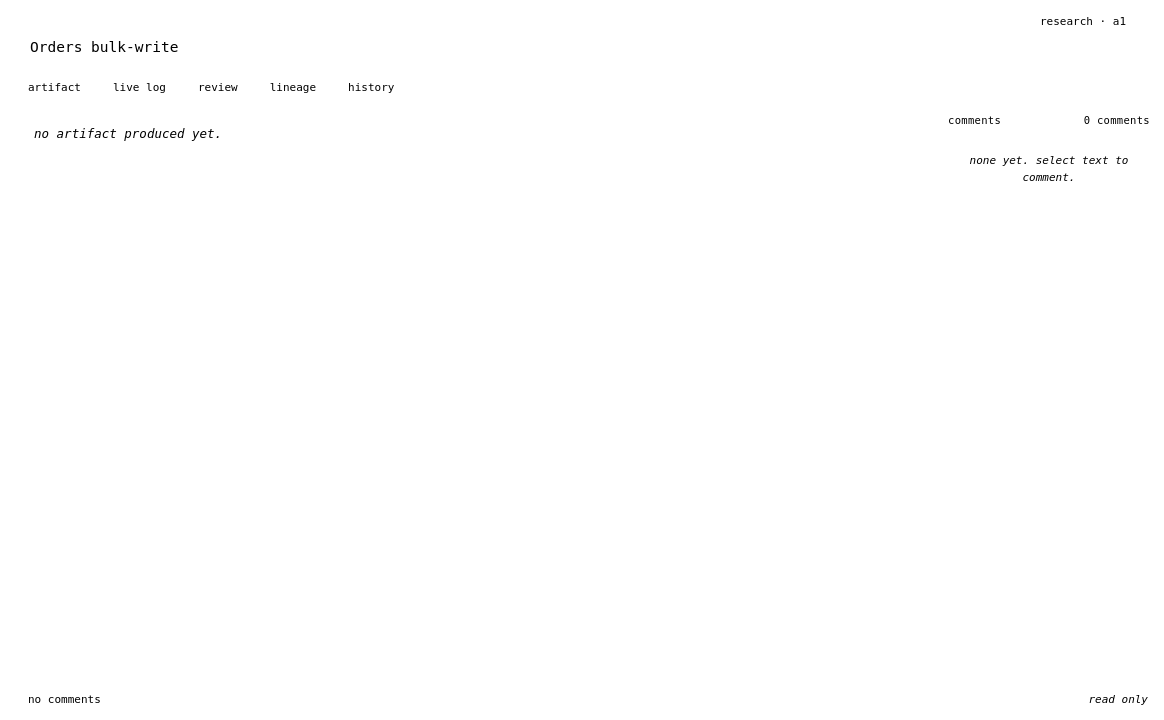
Scenario: CardDrawer › renders live thinking (no prose yet) instead of the loading skeleton (M2)
Click the tab "live log" at [140, 88], box [97,72,182,103]
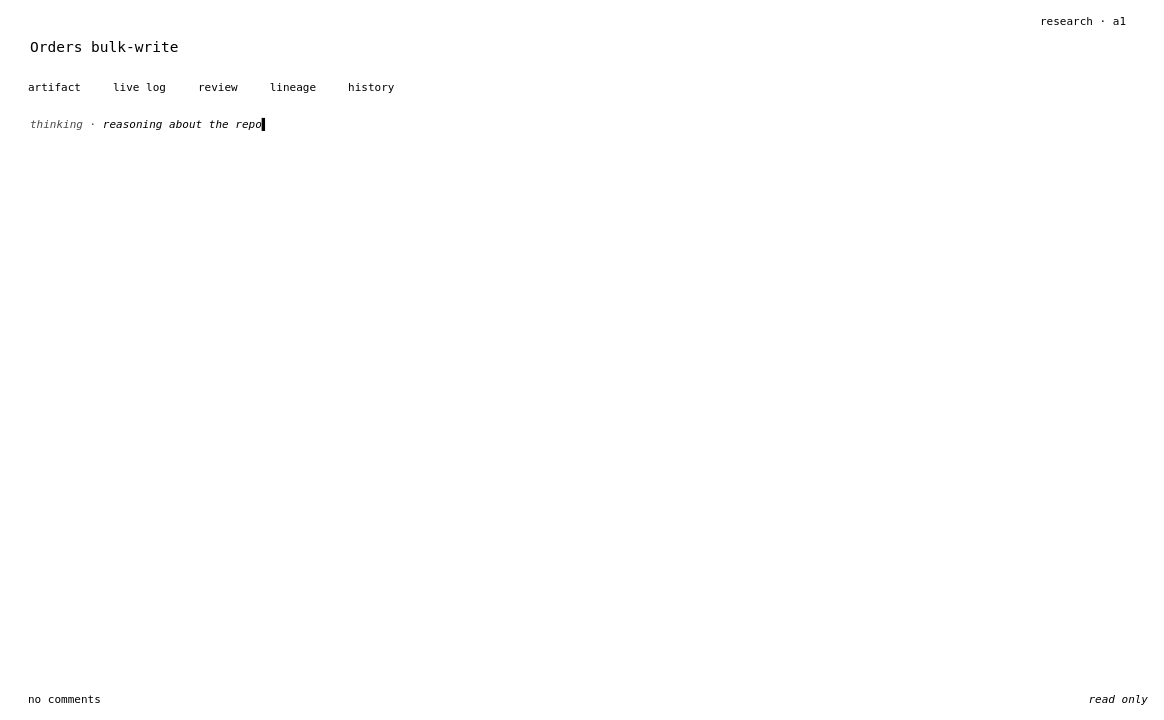
Now the text "thinking · reasoning about the repo" is shown, box [30,118,262,131]
Now the text "thinking ·" is shown, box [30,118,103,131]
